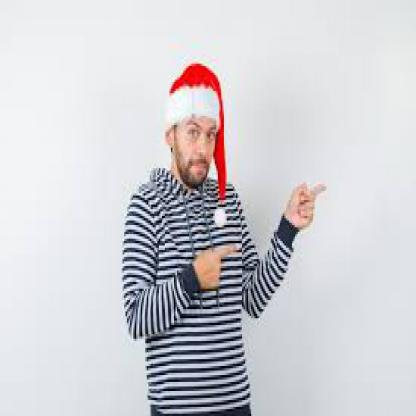Left: (274, 173, 333, 235)
